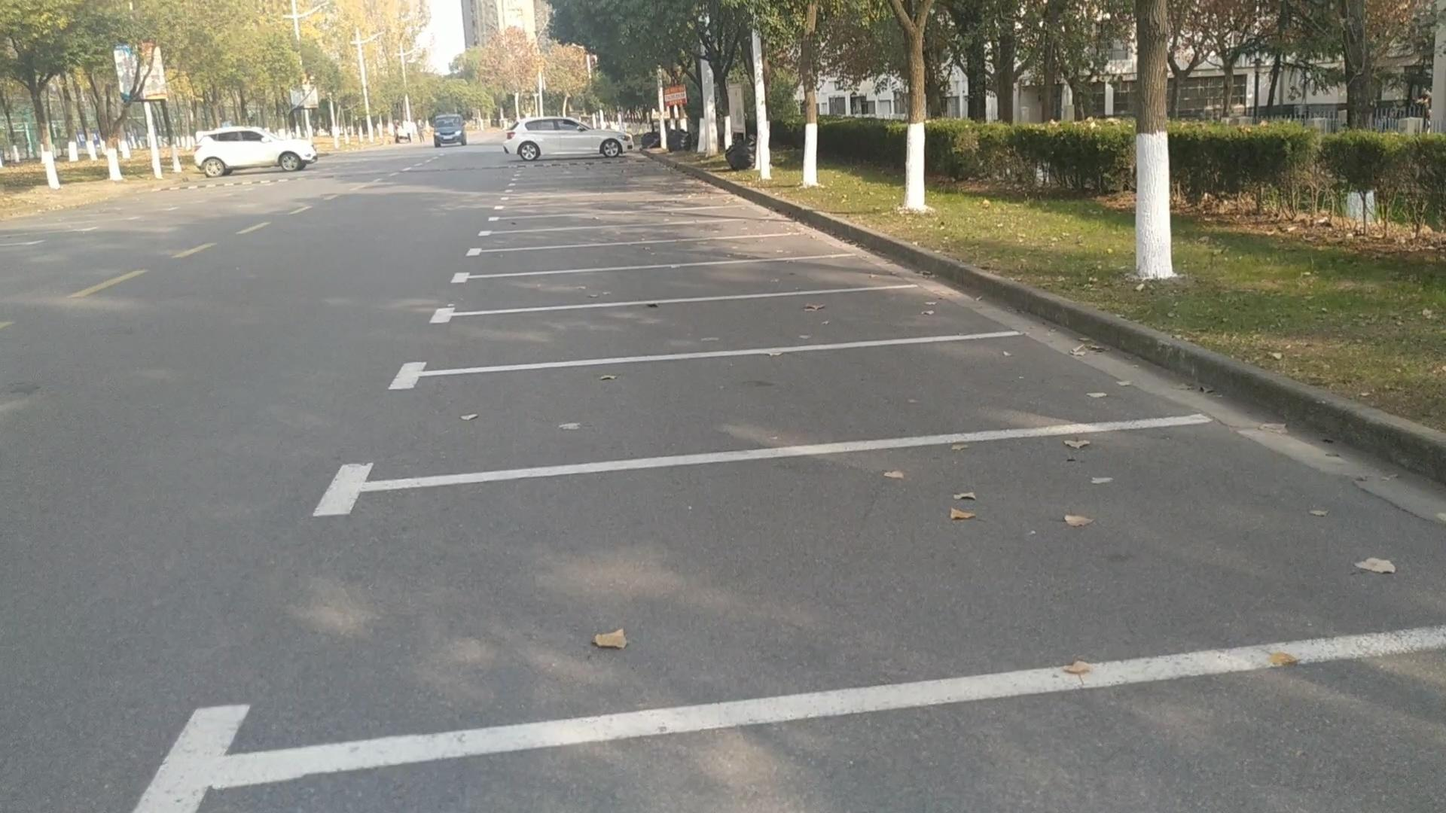car: (193, 127, 319, 175), (502, 117, 630, 163), (433, 115, 465, 145), (394, 121, 418, 143)
